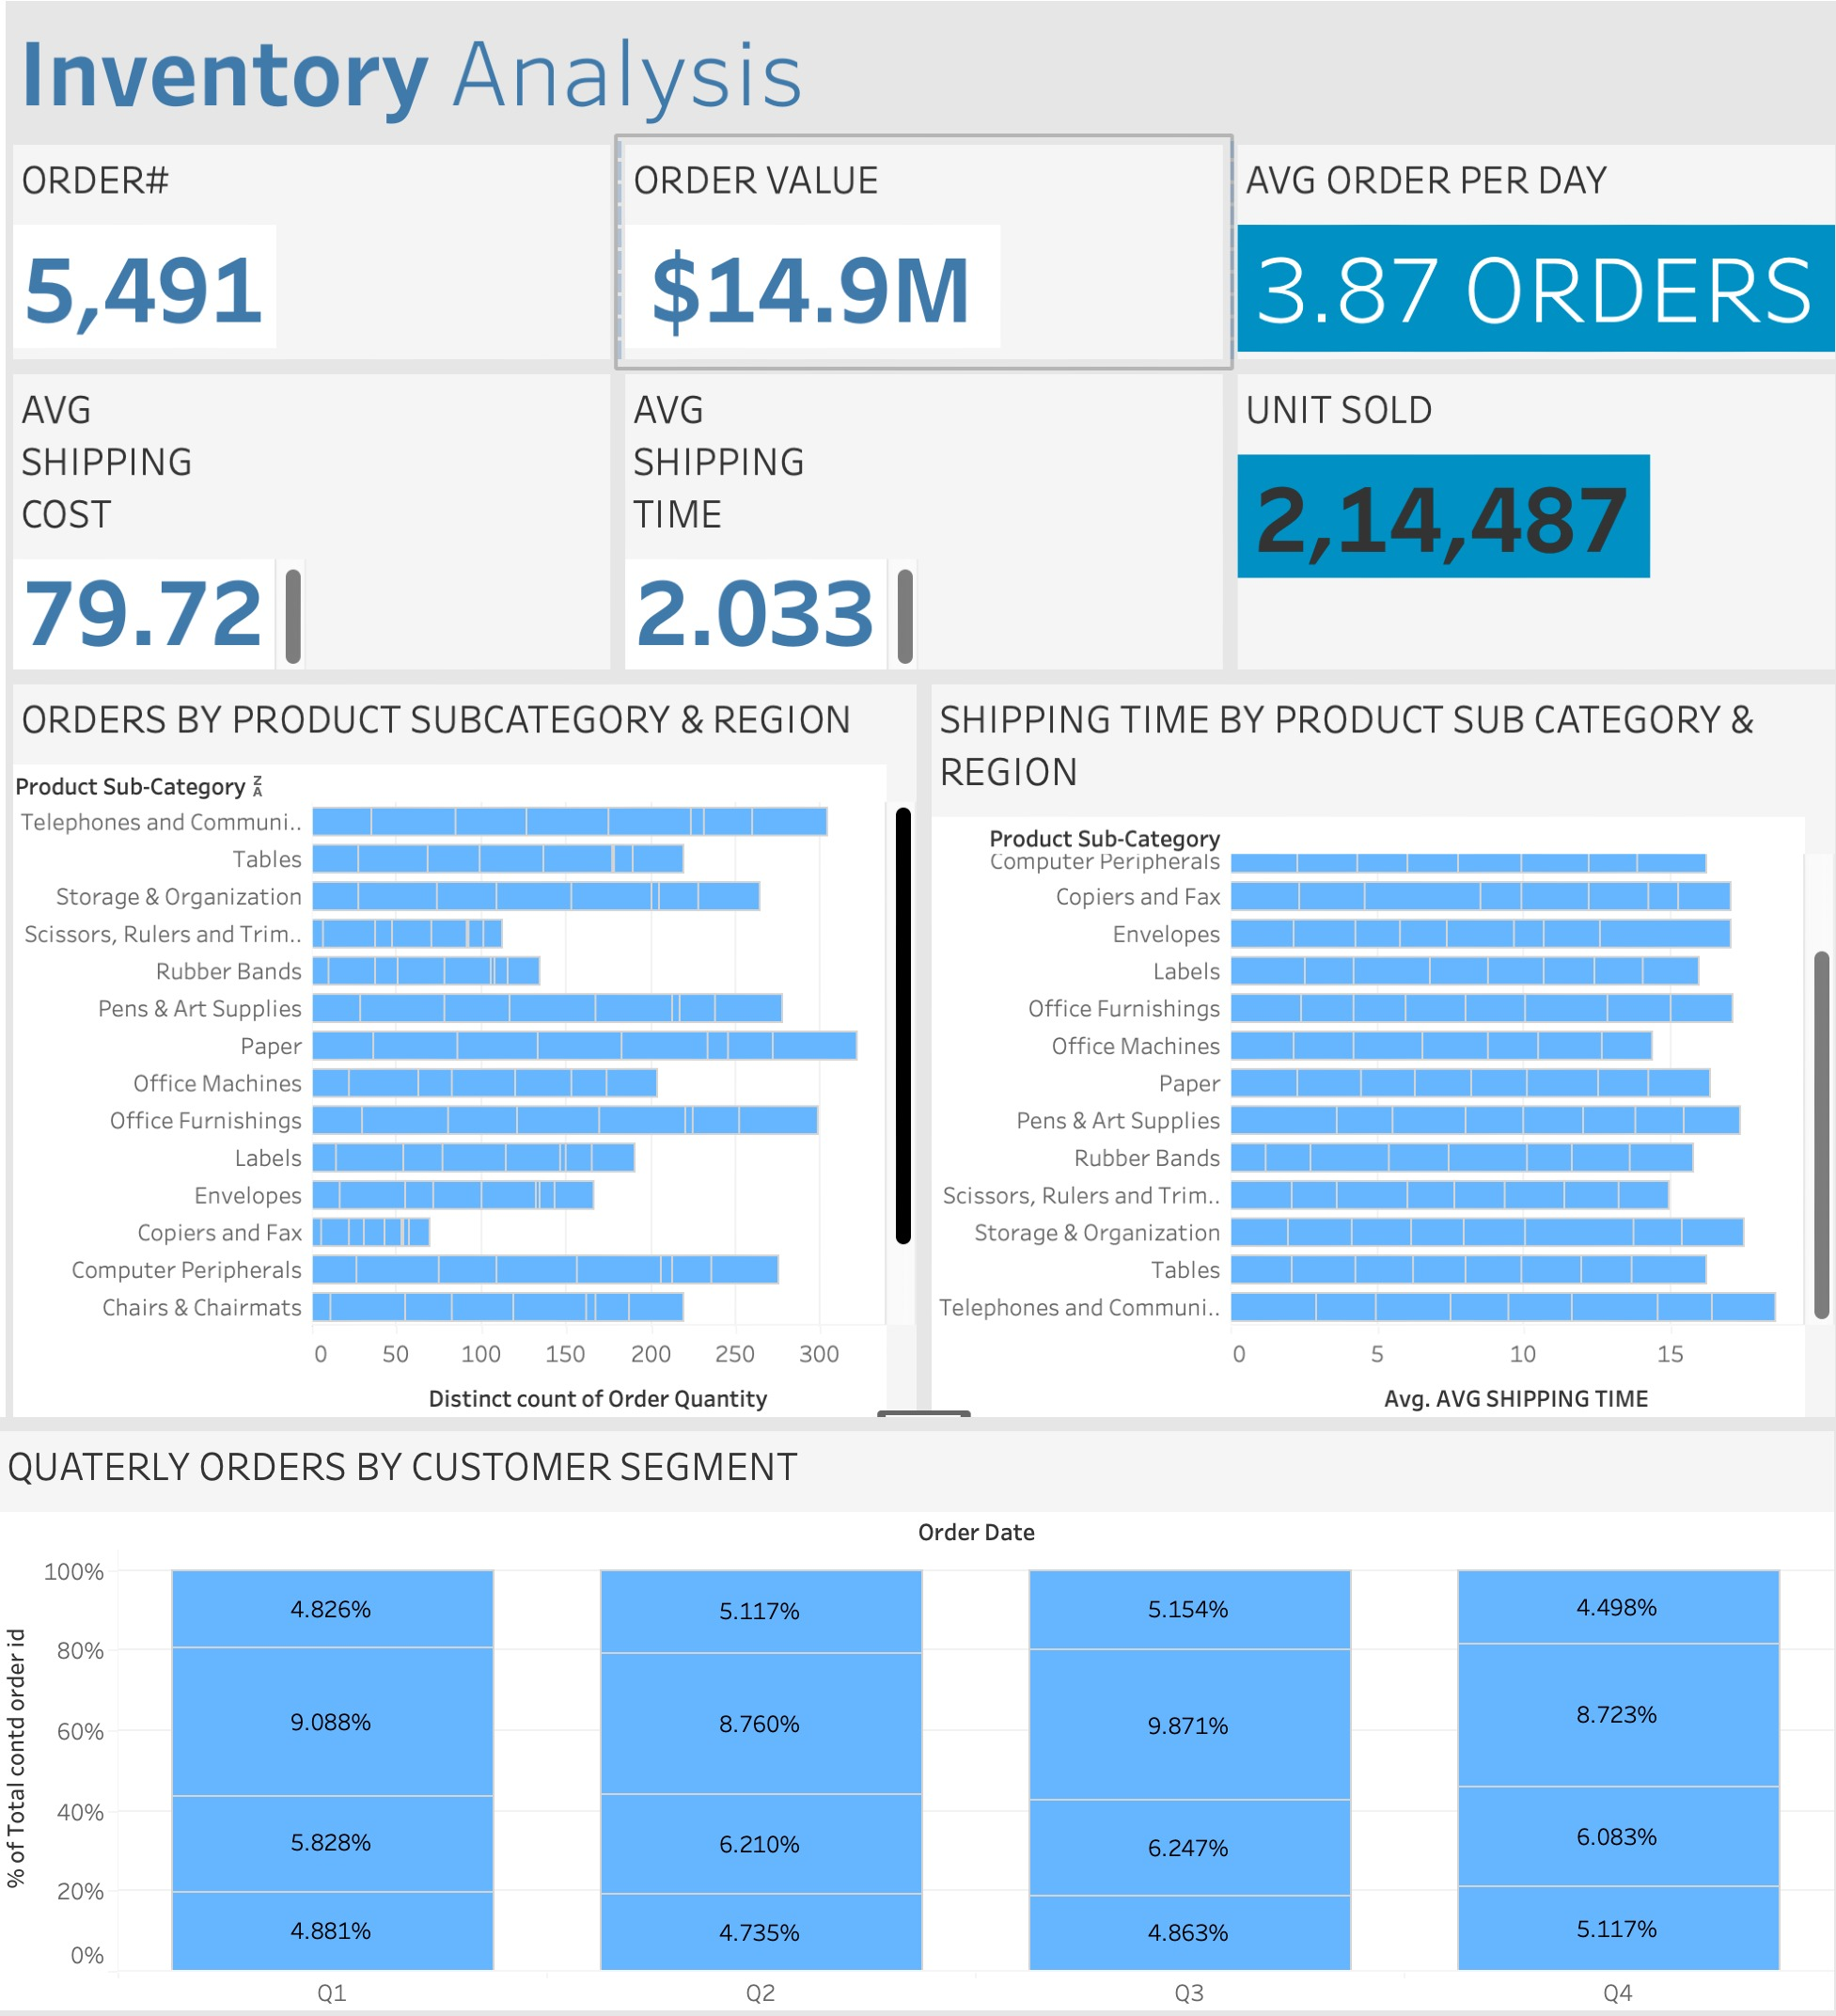

Layout of this report page (visuals, bound fields, positions):
{"tool":"tableau","page":{"name":"Dashboard 1","canvas":[1000,1100],"ordinal":0},"visuals":[{"type":"text","box":[8,8,984,73]},{"type":"worksheet","title":"ORDER#","mark":"Automatic","box":[8,81,328,123]},{"type":"worksheet","title":"ORDER VALUE","mark":"Automatic","box":[336,81,328,123]},{"type":"worksheet","title":"AVG ORDER PER DAY","mark":"Automatic","box":[664,81,328,123]},{"type":"worksheet","title":"AVG SHIPPING COST","mark":"Automatic","box":[8,204,328,166]},{"type":"worksheet","title":"AVG SHIPPING TIME","mark":"Automatic","box":[336,204,328,166]},{"type":"worksheet","title":"UNIT SOLD","mark":"Automatic","box":[664,204,328,166]},{"type":"worksheet","title":"ORDERS BY PRODUCT SUBCATEGORY & REGION","mark":"Automatic","rows":["Product Sub-Category"],"cols":["Order Quantity"],"box":[8,370,492,406]},{"type":"worksheet","title":"SHIPPING TIME BY PRODUCT SUB CATEGORY & REGION","mark":"Automatic","rows":["Product Sub-Category"],"cols":["Calculation_511299340895236105"],"box":[500,370,492,406]},{"type":"worksheet","title":"QUATERLY ORDERS BY CUSTOMER SEGMENT","mark":"Bar","cols":["Order Date"],"box":[8,776,984,316]}]}

Visuals, with their boxes in screenshot pixels (x1, y1, x2, y2), scaled from the page's 1000x1100 canvas onto the 1836x2016 screenshot:
text: locate(15, 15, 1821, 149)
"ORDER#" worksheet: locate(15, 149, 617, 374)
"ORDER VALUE" worksheet: locate(617, 149, 1219, 374)
"AVG ORDER PER DAY" worksheet: locate(1219, 149, 1821, 374)
"AVG SHIPPING COST" worksheet: locate(15, 374, 617, 678)
"AVG SHIPPING TIME" worksheet: locate(617, 374, 1219, 678)
"UNIT SOLD" worksheet: locate(1219, 374, 1821, 678)
"ORDERS BY PRODUCT SUBCATEGORY & REGION" worksheet: locate(15, 678, 918, 1422)
"SHIPPING TIME BY PRODUCT SUB CATEGORY & REGION" worksheet: locate(918, 678, 1821, 1422)
"QUATERLY ORDERS BY CUSTOMER SEGMENT" worksheet (Bar marks): locate(15, 1422, 1821, 2001)
